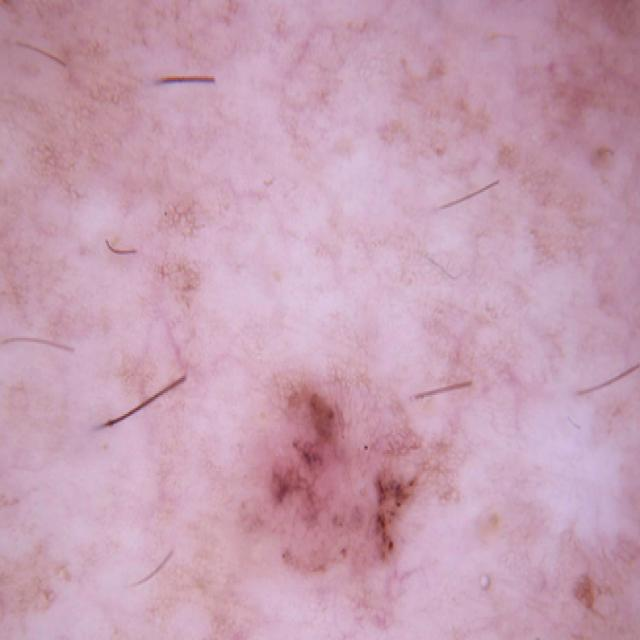Carcinoma: (259, 347, 432, 611)
